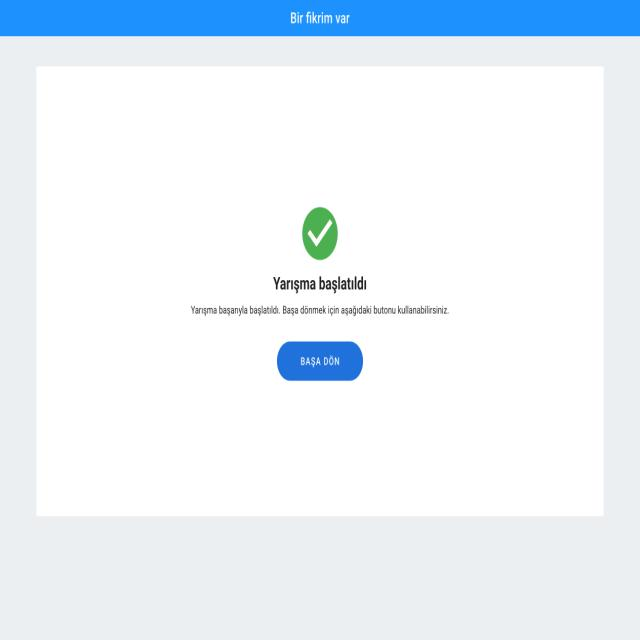QLabel: (189, 302, 451, 318), (270, 274, 369, 294), (286, 8, 352, 28), (297, 356, 341, 370)
VAppBar: (0, 1, 640, 36)
VBtn: (278, 340, 363, 382)
VCard: (36, 64, 604, 519)
VIcon: (303, 206, 338, 260)
